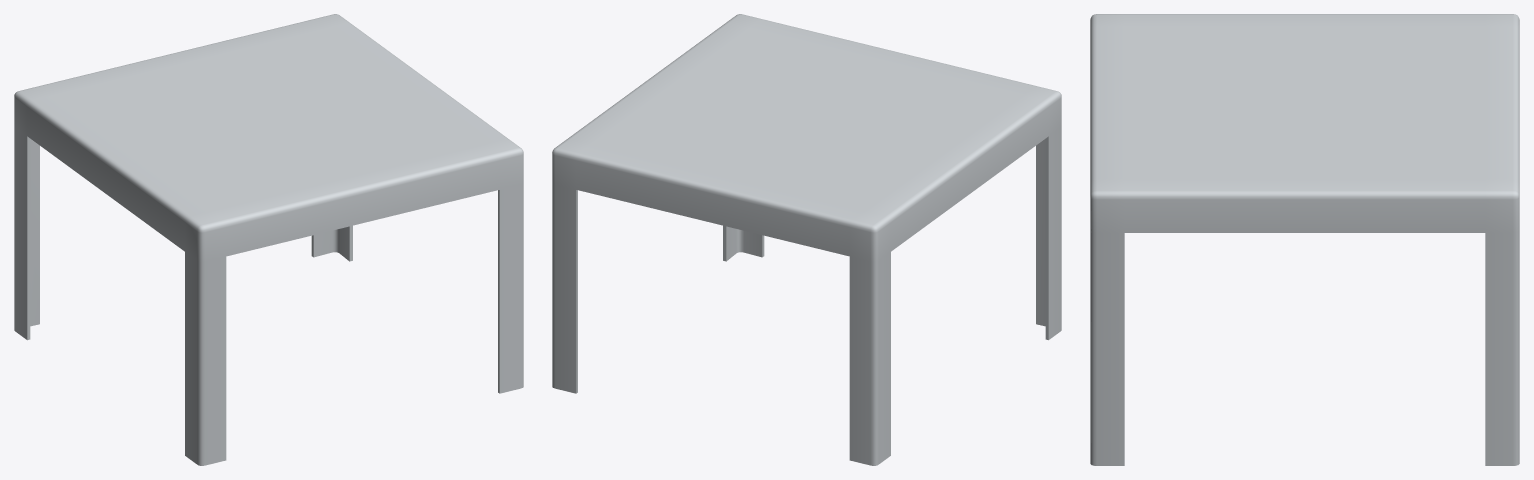
Rendered from PoolLounger01_3.FBX.
3 renders of one model, left to right at view 1: azimuth 30°, elevation 25°; view 2: azimuth 150°, elevation 25°; view 3: azimuth 270°, elevation 25°, orthographic. The views are drawn at different scales.
Parts seen in each view (by area): view 1: PoolLounger01_3; view 2: PoolLounger01_3; view 3: PoolLounger01_3.
Part boxes in pixels (x1,y1,x2,y2): PoolLounger01_3: (14, 14, 523, 465); PoolLounger01_3: (552, 14, 1061, 465); PoolLounger01_3: (1090, 14, 1519, 465).
Size of what is drawn, in the model's own units: 0.5 by 0.35 by 0.5.
